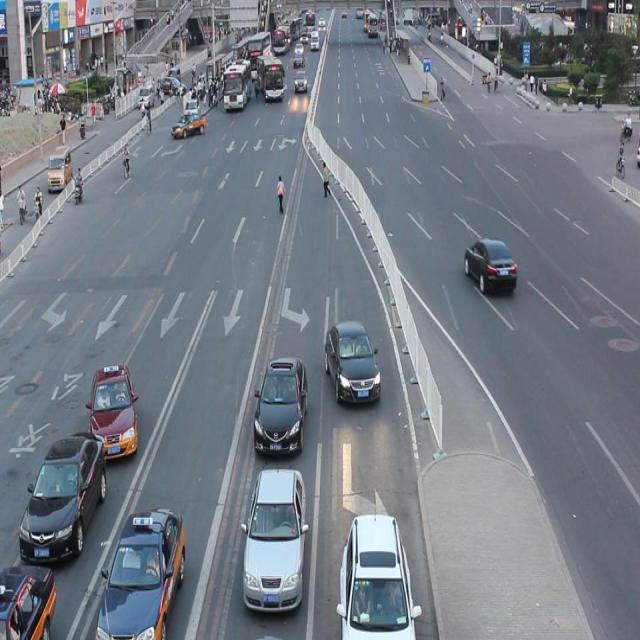car: (96, 501, 188, 640), (19, 428, 106, 566), (338, 509, 417, 640), (240, 463, 306, 612), (253, 353, 308, 456), (88, 360, 140, 461), (323, 316, 381, 406), (0, 560, 56, 640), (462, 234, 517, 293)
